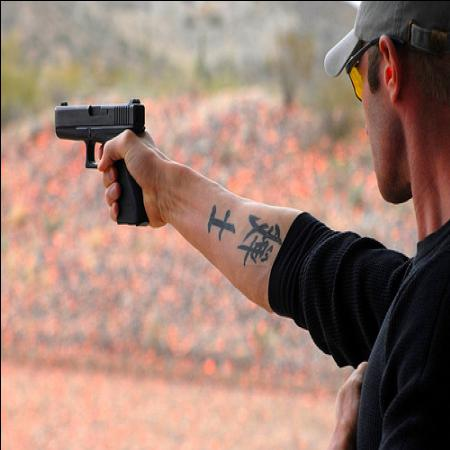Pistol: (54, 94, 151, 222)
